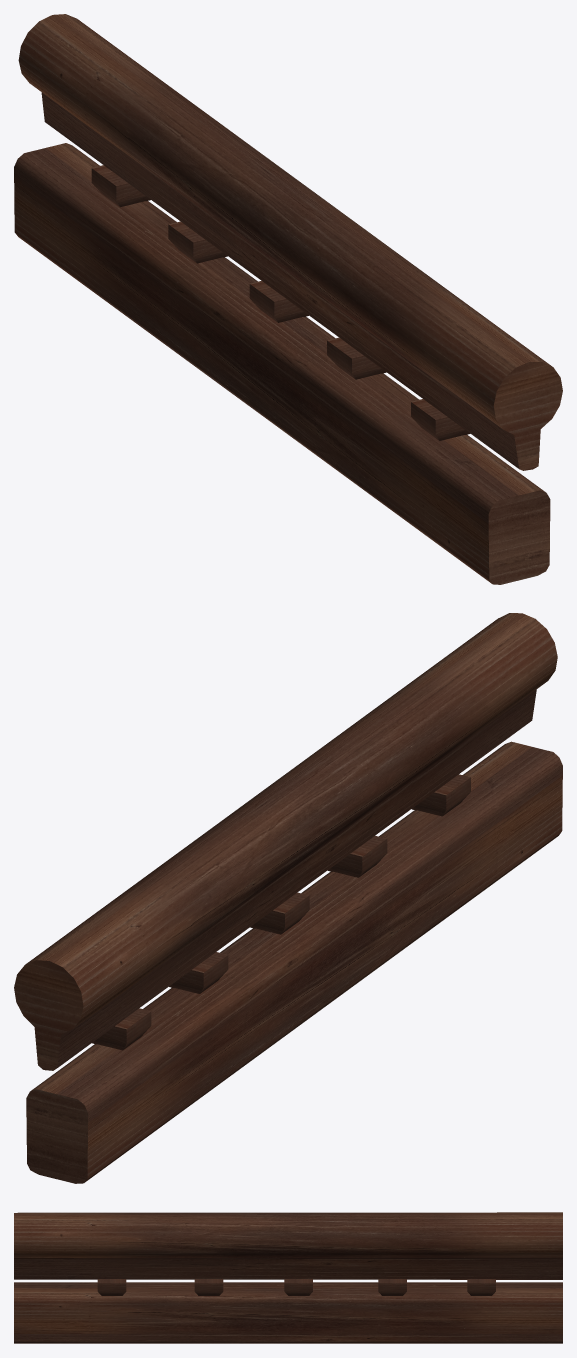
File: SM_R_Dancheong_36.fbx
3 renders of one model, top to bottom at view 1: azimuth 30°, elevation 25°; view 2: azimuth 150°, elevation 25°; view 3: azimuth 270°, elevation 25°, orthographic. The views are drawn at different scales.
Visible parts, largest first — view 1: SM_R_Dancheong_36; view 2: SM_R_Dancheong_36; view 3: SM_R_Dancheong_36.
Boxes of the visible parts, left/top/right/bottom form: SM_R_Dancheong_36: left=14, top=14, right=562, bottom=584; SM_R_Dancheong_36: left=14, top=613, right=562, bottom=1183; SM_R_Dancheong_36: left=14, top=1212, right=562, bottom=1343.
Bounding box in the file's own units: 32.38 × 357 × 89.85.
Materials: 1 (1 with a texture image).
